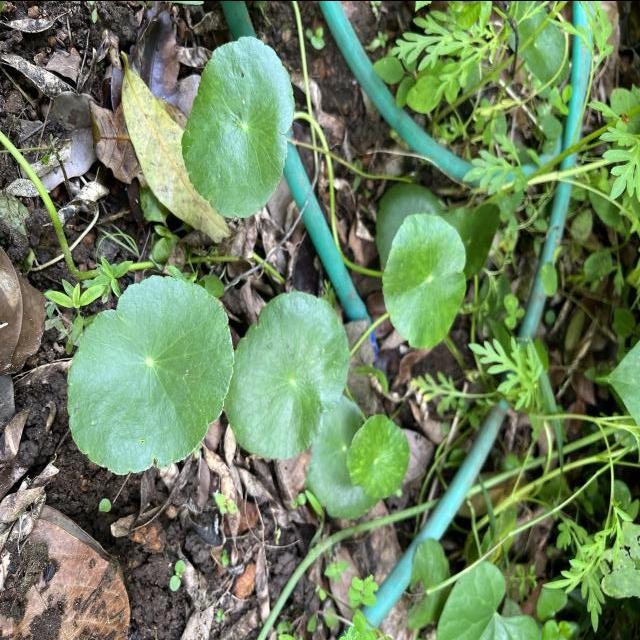Bacopa monnieri: (65, 271, 236, 477), (222, 288, 351, 462), (180, 34, 298, 220), (379, 211, 468, 350), (344, 410, 412, 500)
